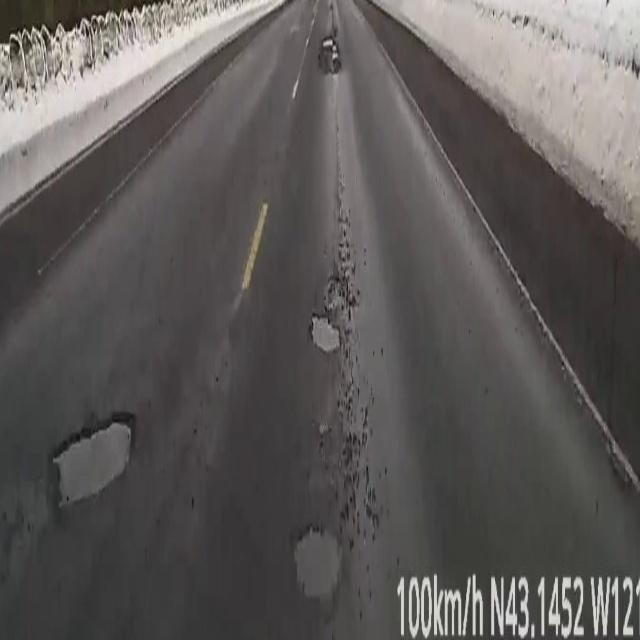pothole: (56, 418, 130, 502), (295, 530, 341, 598), (310, 314, 340, 352), (318, 34, 341, 72)
